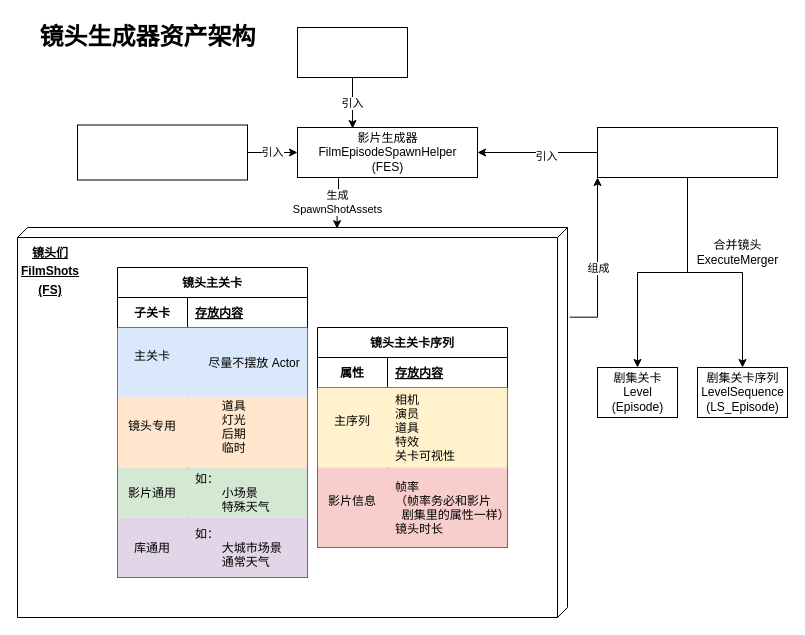
Image size: 805x635. Some labels were removed from this diagram. The centre of each missing label's shape, as x and y in pixels:
影片剧集 FilmEpisode (FE): [687,152]
通用生成配置 FilmEpisodeSpawnConfig (FESC): [162,152]
镜头规划数据表 InputShotInfo (ISI): [352,52]
